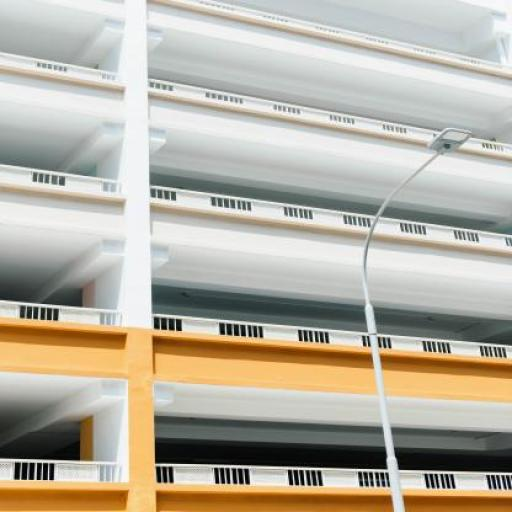street light: (359, 128, 479, 511)
